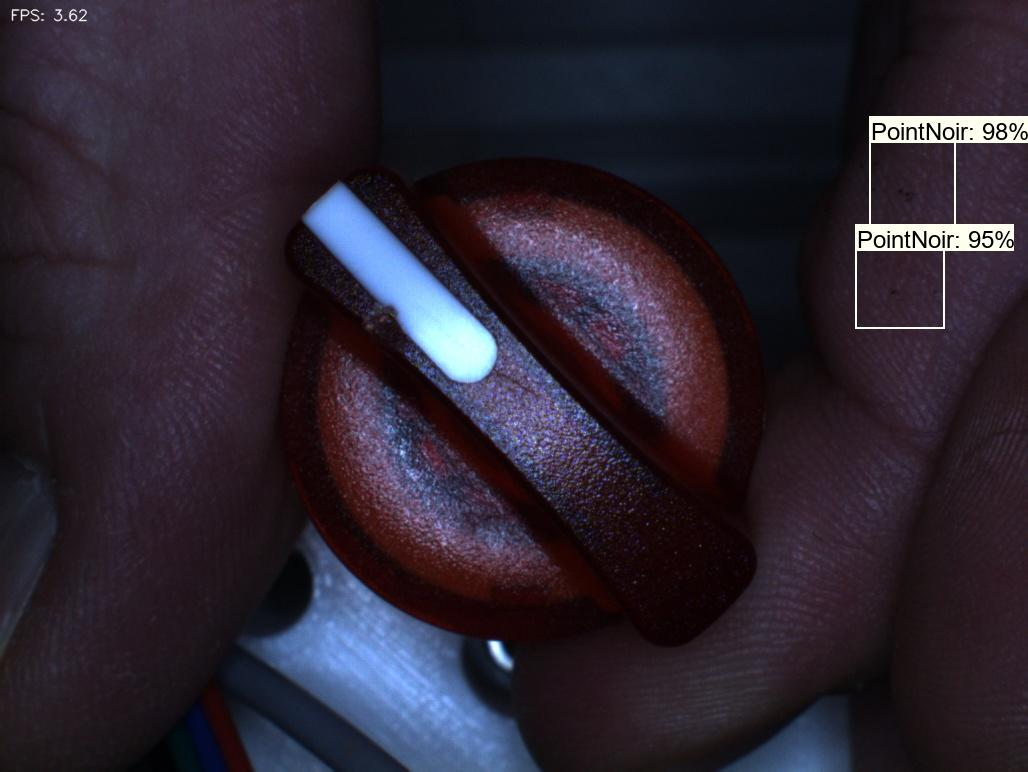Choc: (326, 279, 429, 373)
